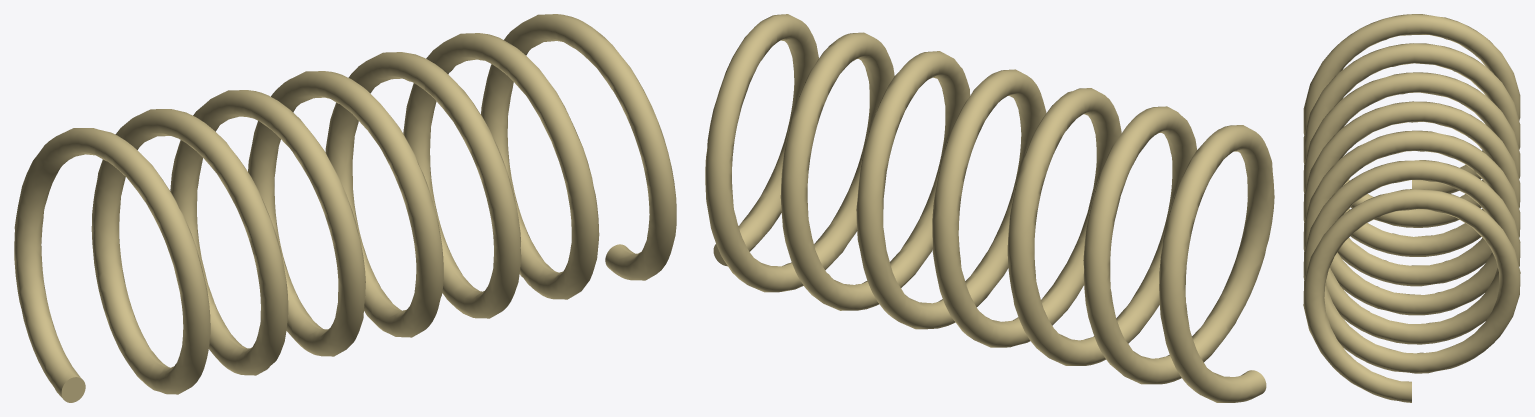
The model's file is step_06.glb.
The picture shows the model from 3 angles, left to right: view 1: azimuth 30°, elevation 25°; view 2: azimuth 150°, elevation 25°; view 3: azimuth 270°, elevation 25°; orthographic projection. The views are drawn at different scales.
Visible parts, largest first — view 1: part__return spring; view 2: part__return spring; view 3: part__return spring.
Part boxes in pixels (x1=…): part__return spring: x1=14, y1=14, x2=676, y2=402; part__return spring: x1=705, y1=14, x2=1274, y2=402; part__return spring: x1=1303, y1=14, x2=1520, y2=402.
Size of the model in its own units: 56.39 by 24.4 by 24.29.
